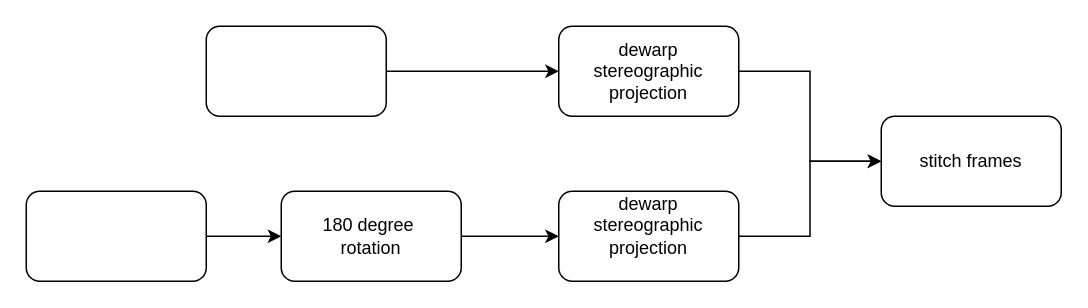
The diagram is 1088 pixels wide and 308 high, and some of its shapes have lost their labels. The shapes that lost their labels are listed below. From the top down, each one's box as (x1, y1, x2, y2) in pixels, then its label:
(205, 25, 386, 116): camera 1 /left_camera
(25, 190, 206, 281): camera 2 /left_camera
